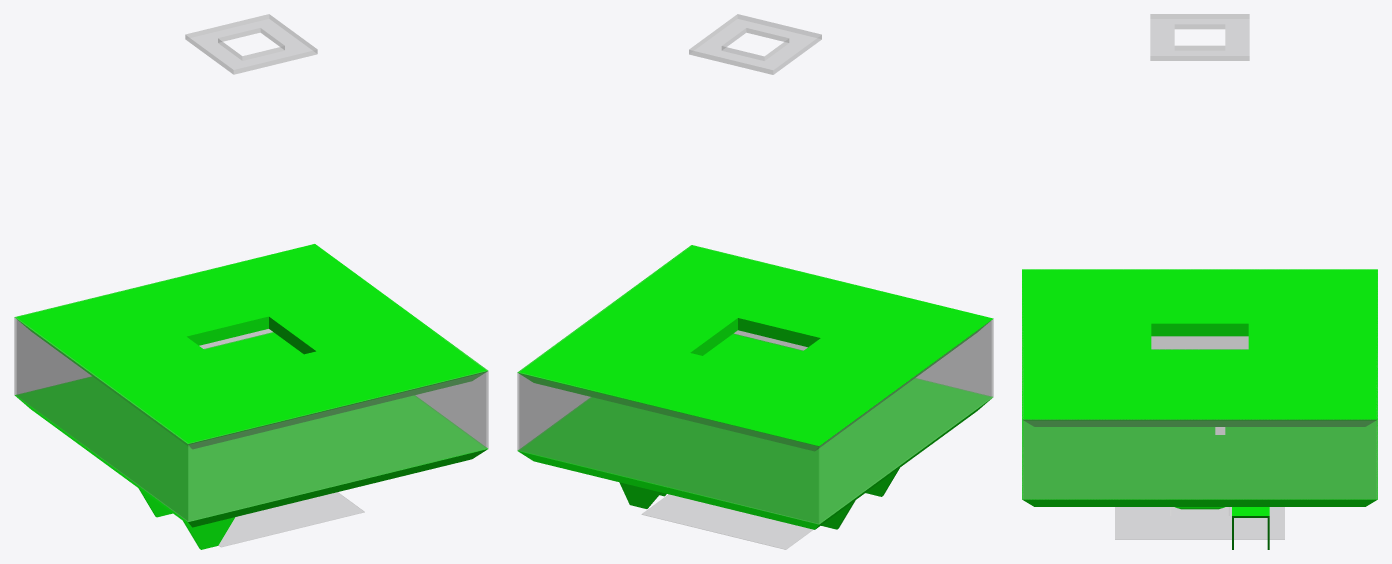
File: building_floors.glb
The picture shows the model from 3 angles, left to right: view 1: azimuth 30°, elevation 25°; view 2: azimuth 150°, elevation 25°; view 3: azimuth 270°, elevation 25°; orthographic projection. The views are drawn at different scales.
Visible parts, largest first — view 1: Plane.003, Plane.008, Plane.007, Cube.033, Cube.037, Cube.002; view 2: Plane.003, Plane.008, Plane.007, Cube.033, Cube.037, Cube, Cube.002; view 3: Plane.003, Plane.008, Plane.007, Cube.037, Cube.033, Cube.
Boxes of the visible parts, x1,y1,x2,y2 form: Plane.003: (14, 244, 488, 449); Plane.008: (14, 263, 488, 521); Plane.007: (14, 332, 487, 527); Cube.033: (185, 14, 317, 74); Cube.037: (218, 492, 364, 547); Cube.002: (138, 488, 235, 549); Plane.003: (517, 245, 993, 451); Plane.008: (517, 245, 993, 524); Plane.007: (517, 333, 993, 529); Cube.033: (689, 14, 821, 74); Cube.037: (641, 494, 812, 549); Cube: (619, 482, 666, 508); Cube.002: (821, 468, 899, 529); Plane.003: (1022, 269, 1377, 426); Plane.008: (1022, 324, 1377, 499); Plane.007: (1022, 349, 1377, 506); Cube.037: (1115, 507, 1284, 539); Cube.033: (1150, 14, 1249, 60); Cube: (1232, 507, 1269, 549).
Size of what is drawn, in the model's own units: 28.21 by 41.07 by 28.21.
